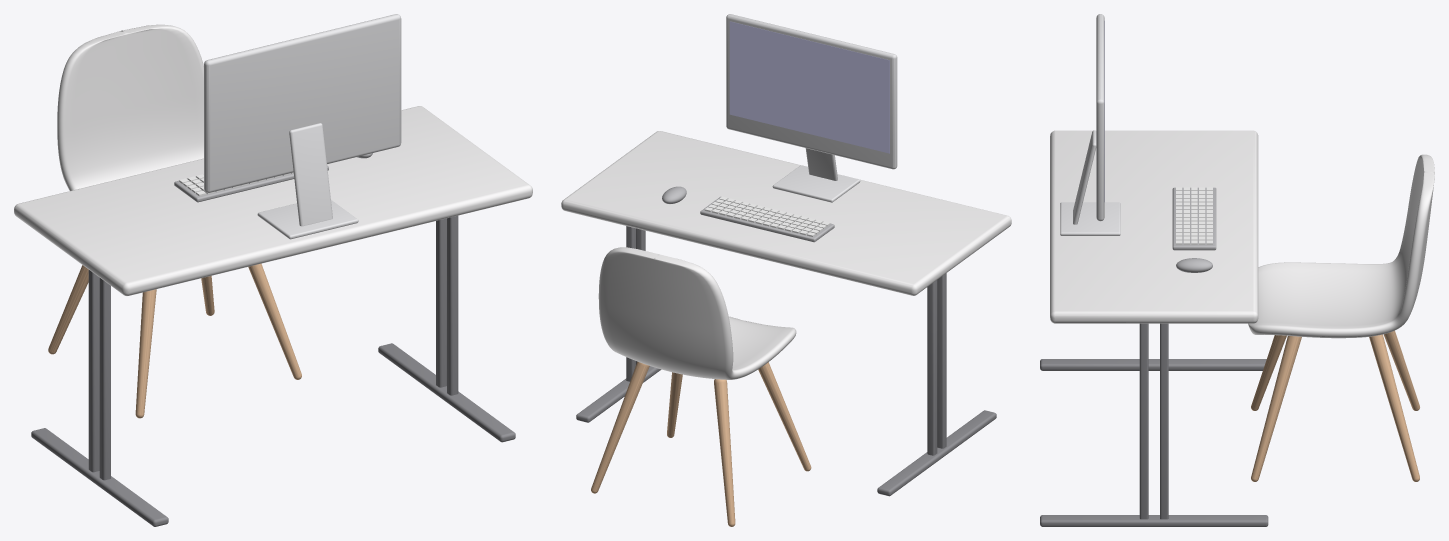
Rendered from desk-set.glb.
The picture shows the model from 3 angles, left to right: view 1: azimuth 30°, elevation 25°; view 2: azimuth 150°, elevation 25°; view 3: azimuth 270°, elevation 25°; orthographic projection. The views are drawn at different scales.
Parts seen in each view (by area): view 1: desk_top, monitor_body, chair_shell, desk_legs, chair_legs, keyboard_base; view 2: desk_top, chair_shell, monitor_screen, monitor_body, desk_legs, chair_legs, keyboard_keys, keyboard_base; view 3: desk_top, chair_shell, desk_legs, chair_legs, monitor_body, keyboard_keys, keyboard_base, mouse.
Boxes of the visible parts, x1,y1,x2,y2 form: desk_top: [14, 106, 532, 295]; monitor_body: [204, 14, 401, 239]; chair_shell: [57, 24, 203, 190]; desk_legs: [31, 215, 515, 526]; chair_legs: [48, 263, 301, 418]; keyboard_base: [174, 165, 328, 202]; desk_top: [561, 131, 1011, 295]; chair_shell: [598, 247, 796, 379]; monitor_screen: [729, 21, 889, 153]; monitor_body: [726, 14, 897, 202]; desk_legs: [576, 226, 996, 496]; chair_legs: [591, 361, 811, 526]; keyboard_keys: [704, 196, 830, 236]; keyboard_base: [700, 196, 834, 242]; desk_top: [1050, 130, 1258, 323]; chair_shell: [1248, 154, 1434, 338]; desk_legs: [1040, 323, 1268, 526]; chair_legs: [1251, 330, 1419, 481]; monitor_body: [1060, 14, 1120, 235]; keyboard_keys: [1176, 187, 1212, 244]; keyboard_base: [1172, 187, 1216, 250]; mouse: [1176, 258, 1212, 272].
Bounding box in the file's own units: 1.3 × 1.28 × 1.18.
